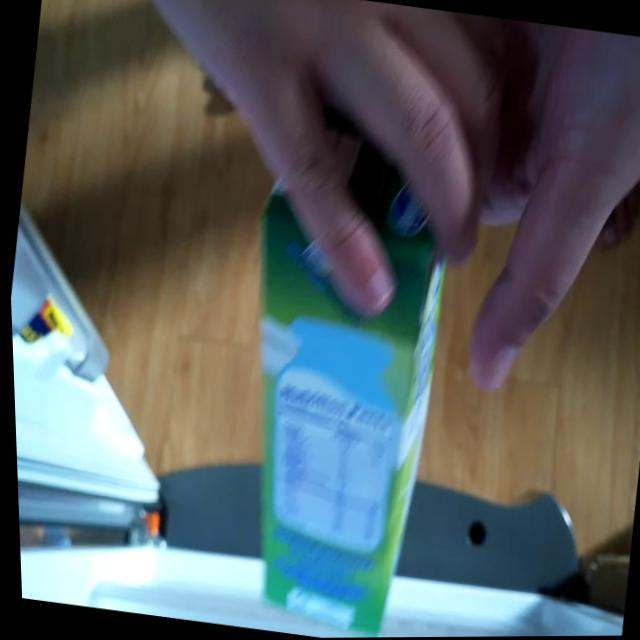milk: (197, 136, 477, 639)
